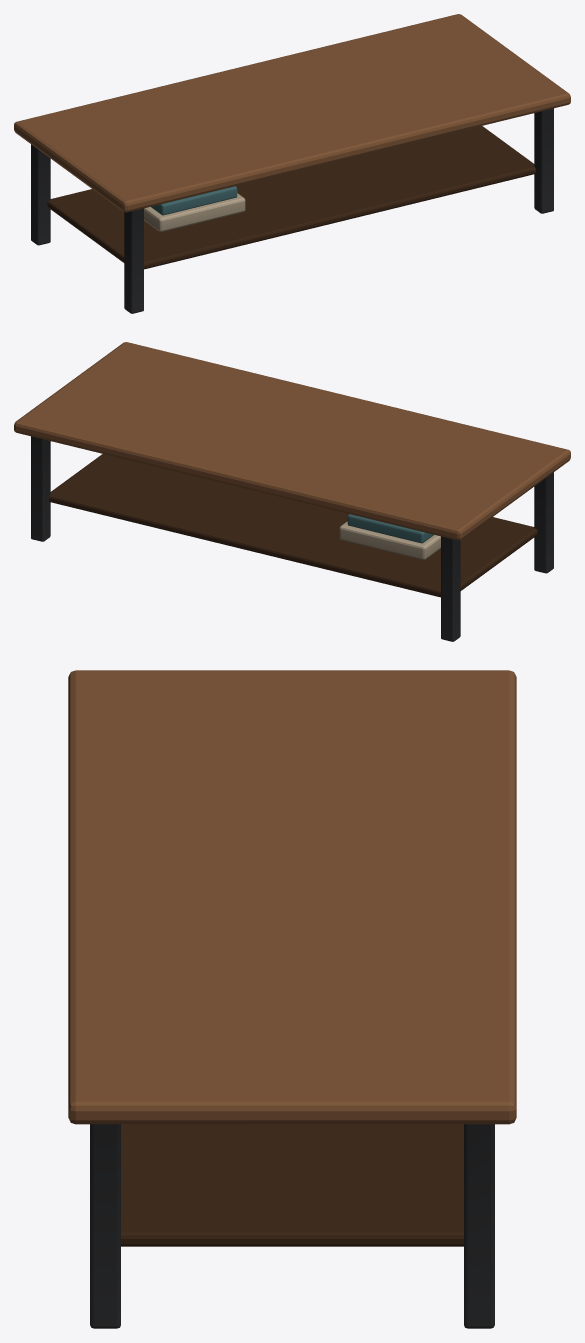
Rendered from coffeeTableLong.glb.
3 views of the same model, one above another, from view 1: azimuth 30°, elevation 25°; view 2: azimuth 150°, elevation 25°; view 3: azimuth 270°, elevation 25° (orthographic). The views are drawn at different scales.
Visible parts, largest first — view 1: coffeeTableLong; view 2: coffeeTableLong; view 3: coffeeTableLong.
Boxes of the visible parts, x1=… form: coffeeTableLong: x1=14, y1=14, x2=570, y2=313; coffeeTableLong: x1=14, y1=342, x2=570, y2=641; coffeeTableLong: x1=68, y1=670, x2=516, y2=1328.
Size of the model in its own units: 1.66 by 0.42 by 0.72.
